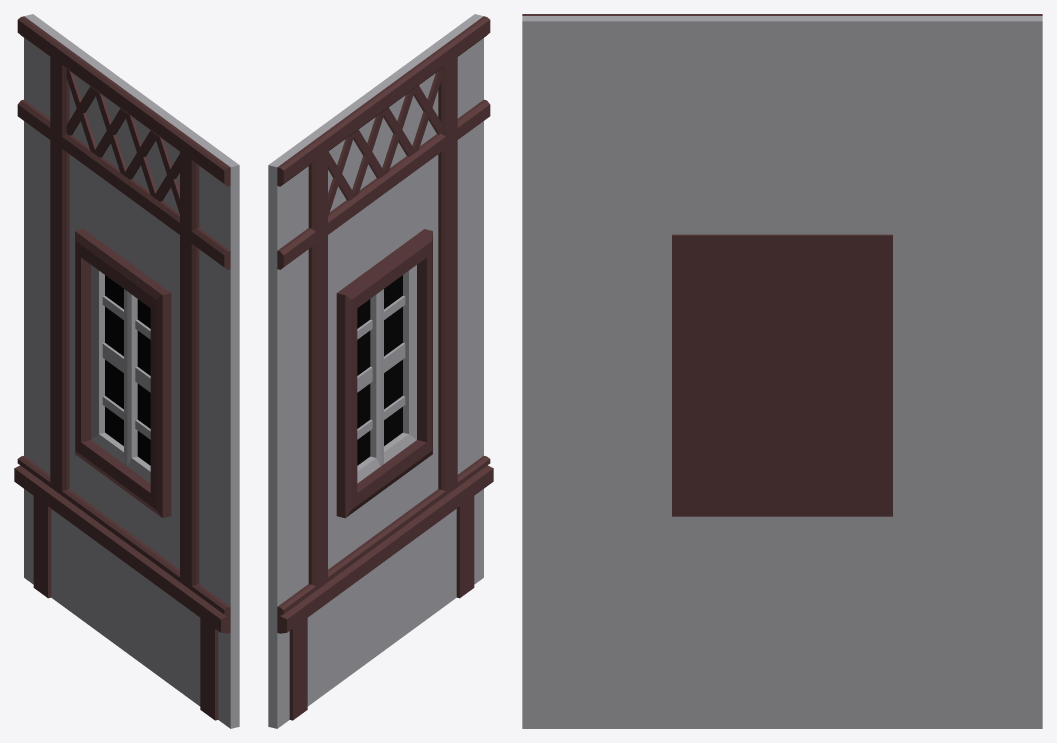
Rendered from 1_Window_Single_1_S.fbx.
3 renders of one model, left to right at view 1: azimuth 30°, elevation 25°; view 2: azimuth 150°, elevation 25°; view 3: azimuth 270°, elevation 25°, orthographic. The views are drawn at different scales.
Visible parts, largest first — view 1: 1_Window_Single_1_S; view 2: 1_Window_Single_1_S; view 3: 1_Window_Single_1_S.
Boxes of the visible parts, x1,y1,x2,y2 form: 1_Window_Single_1_S: [14, 14, 239, 728]; 1_Window_Single_1_S: [268, 14, 493, 728]; 1_Window_Single_1_S: [522, 14, 1042, 728].
Bounding box in the file's own units: 12.36 × 200 × 300.
